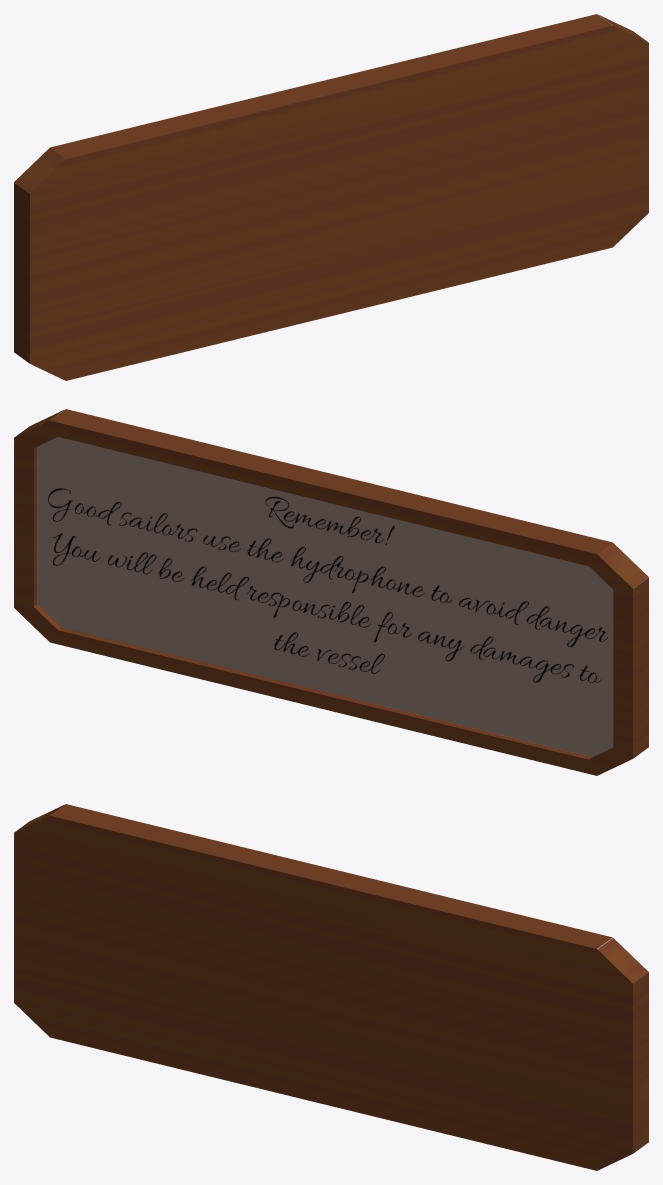
The model's file is signHydrophone.fbx.
3 renders of one model, top to bottom at view 1: azimuth 30°, elevation 25°; view 2: azimuth 150°, elevation 25°; view 3: azimuth 330°, elevation 25°, orthographic.
Parts seen in each view (by area): view 1: Cube; view 2: Cube; view 3: Cube.
Boxes of the visible parts, x1,y1,x2,y2 form: Cube: (14,14,648,380); Cube: (14,409,648,775); Cube: (14,804,648,1170).
Bounding box in the file's own units: 670 × 229 × 29.8.
1 material, 1 textured.
